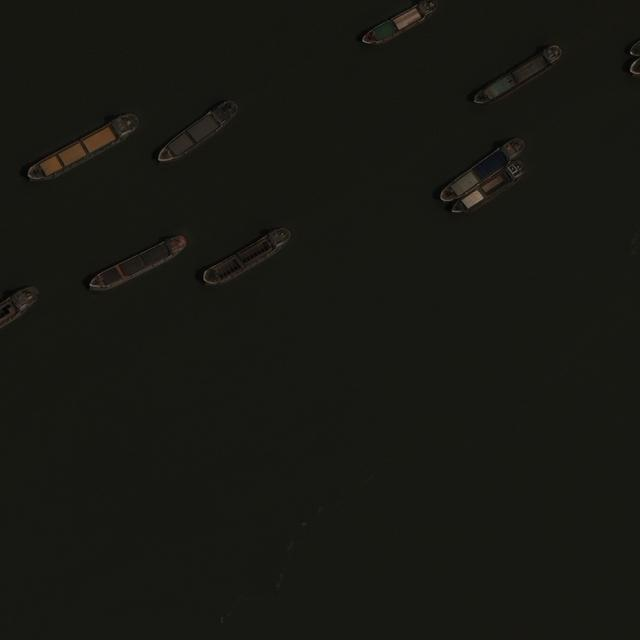Cargo: (24, 108, 142, 189), (468, 42, 567, 115), (151, 96, 244, 171), (86, 233, 191, 297), (198, 224, 296, 291), (437, 135, 528, 206), (448, 160, 529, 220), (359, 1, 438, 46), (1, 287, 37, 333), (628, 39, 640, 57), (628, 58, 640, 76)
